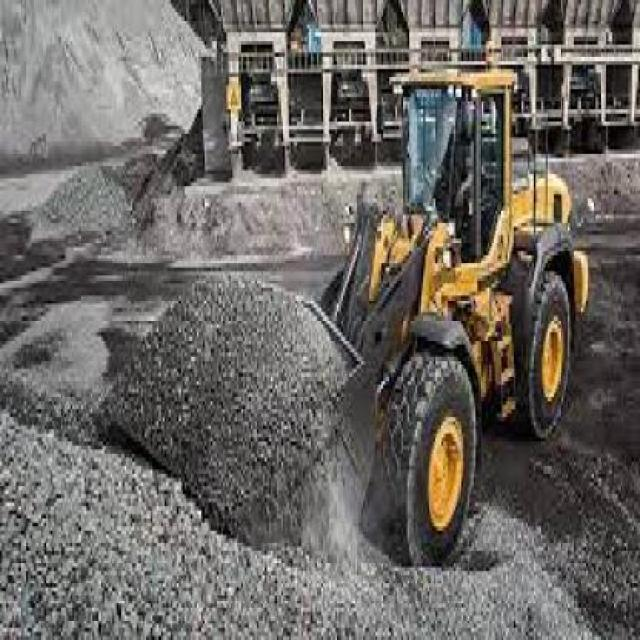buldozerpayloadergrader: (307, 65, 590, 563)
